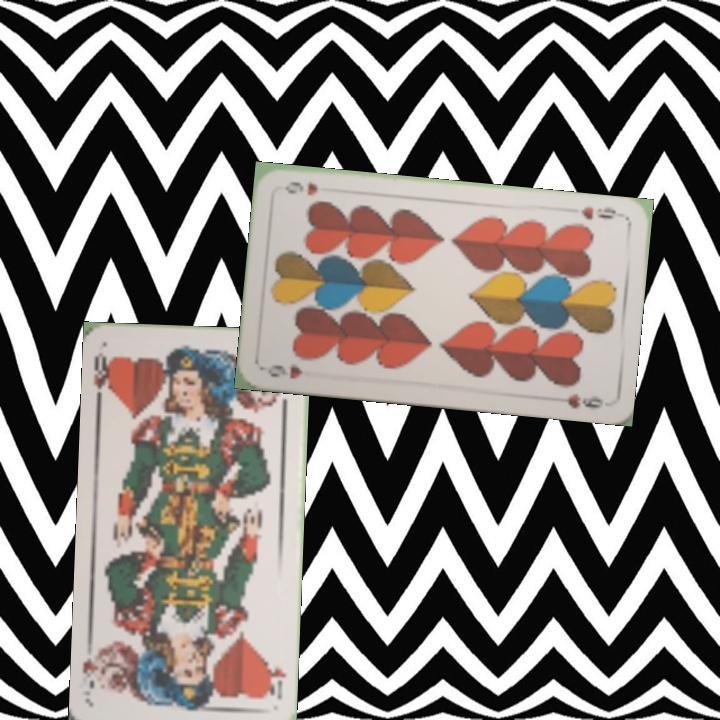H9: (263, 360, 306, 382), (577, 203, 618, 222)
HO: (89, 348, 116, 406), (262, 658, 289, 702)
